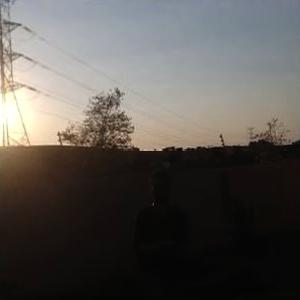follow: (130, 158, 198, 299)
